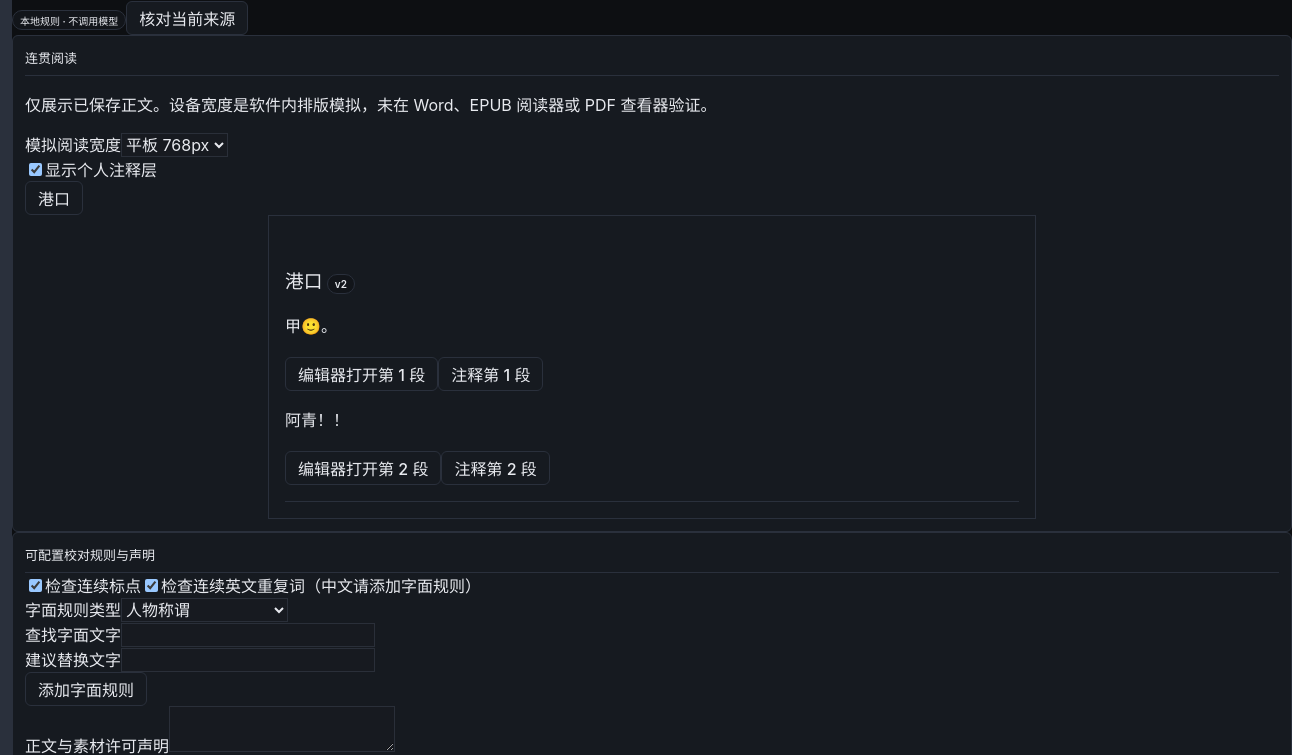
Test case: U11 real client request contracts › submits bounded literal rule configuration and status-only preflight with no editor content
The image size is (1292, 755).
Type "阿青" into the field labelled "查找字面文字" at (248,635), box [121,623,375,647]
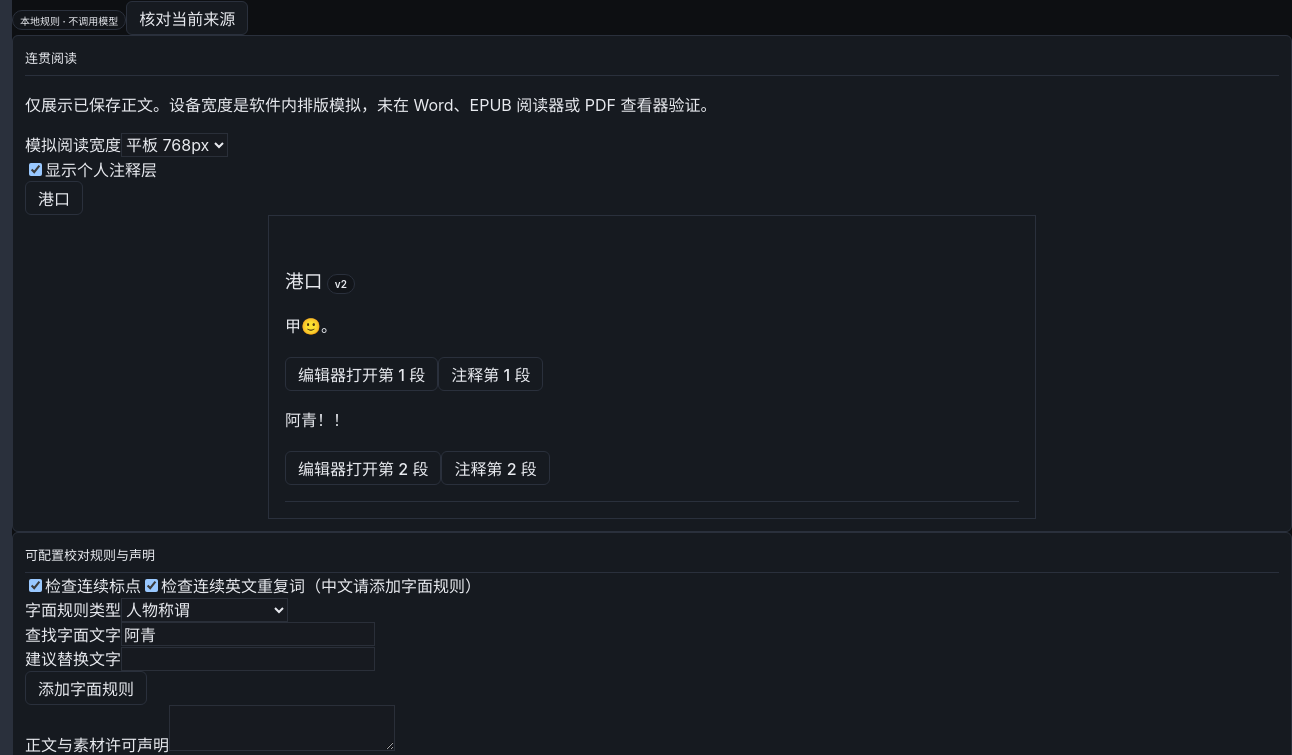
Type "船长" into the field labelled "建议替换文字" at (248,659), box [121,647,375,671]
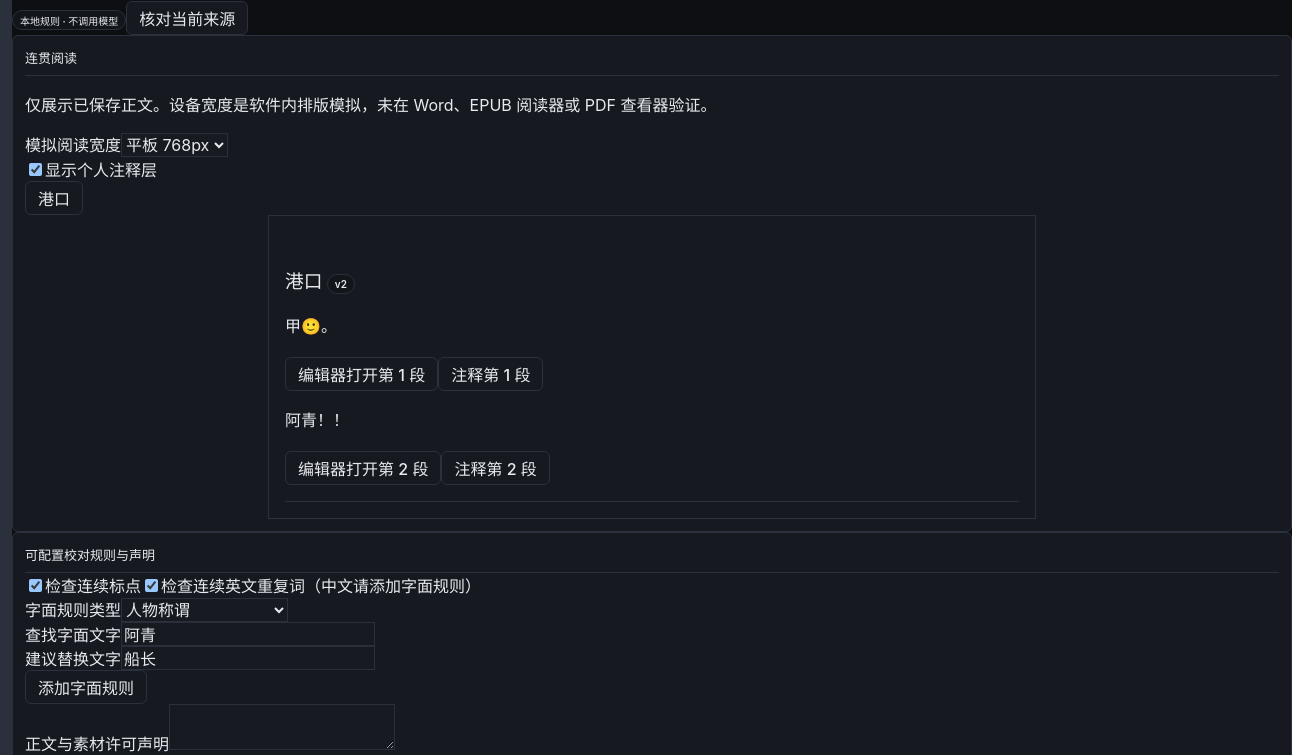
Click the button "添加字面规则" at (86,687), box [25,670,147,704]
(page scrolled)
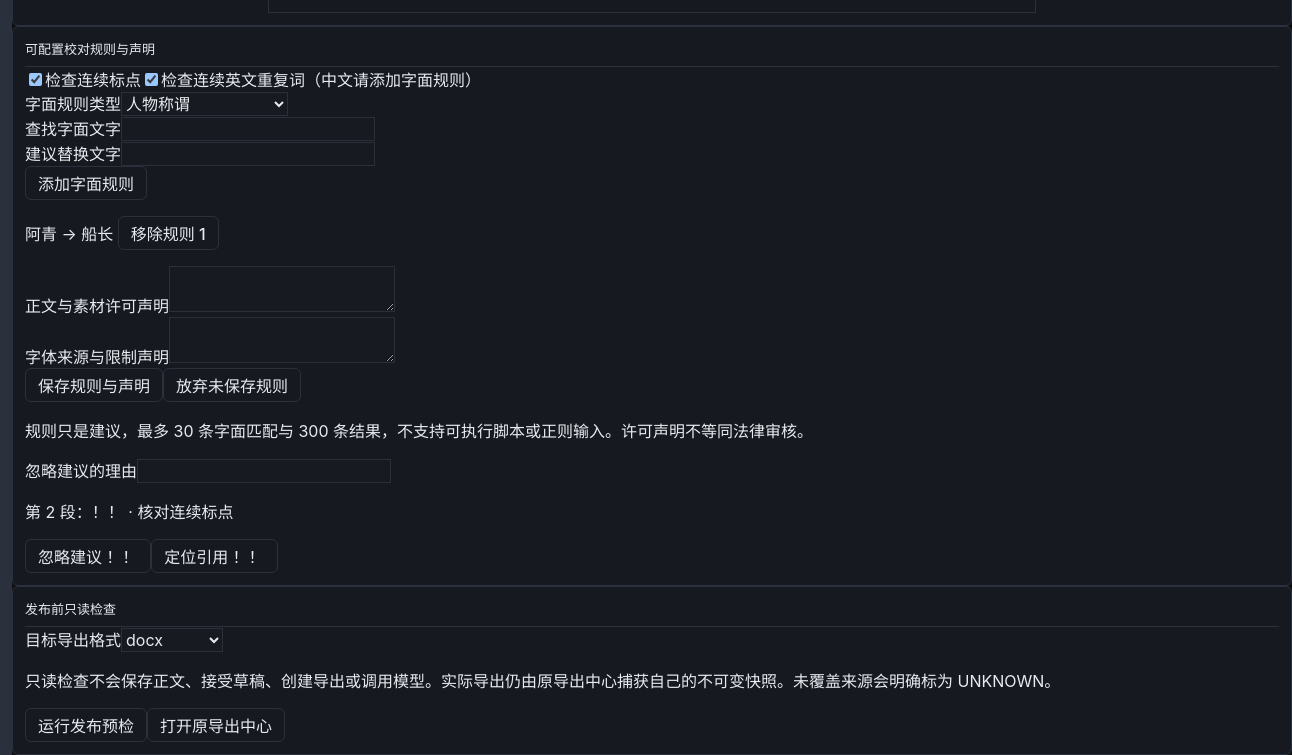
Click the button "保存规则与声明" at (94,385), box [25,368,163,402]
(page scrolled)
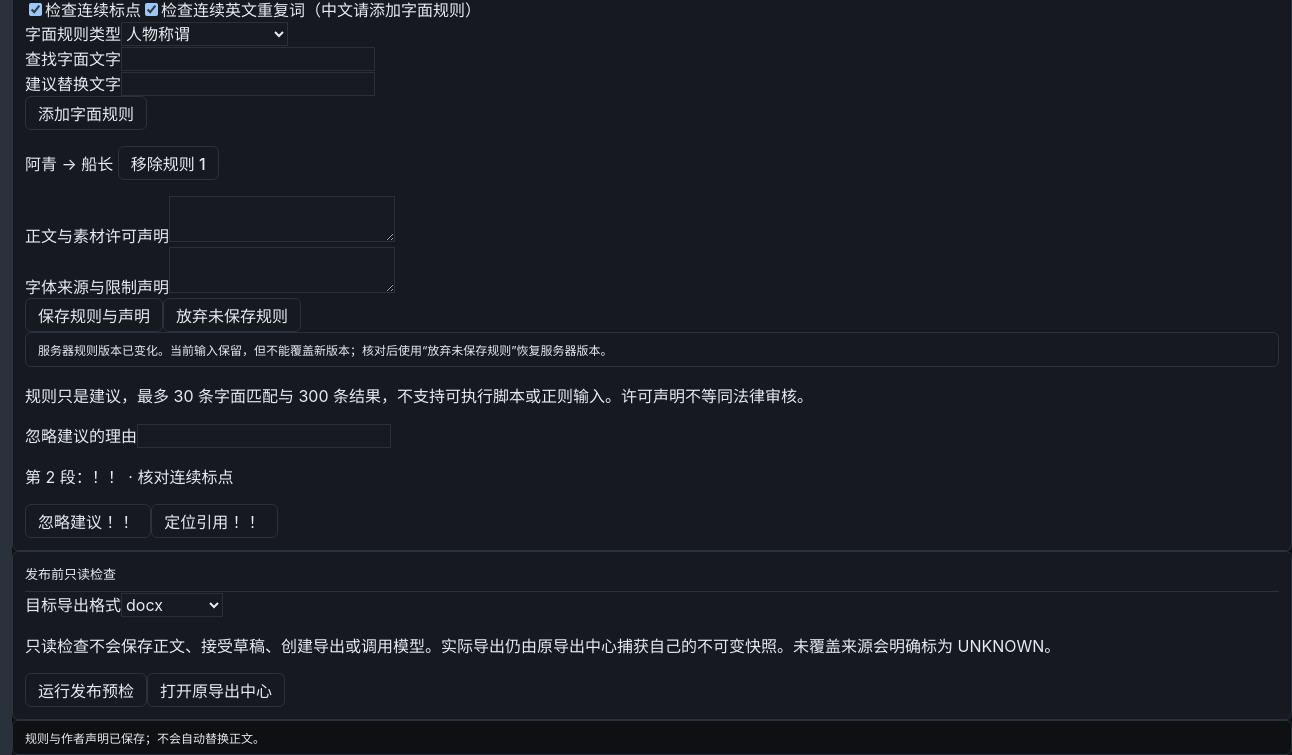
Check: the text "规则与作者声明已保存；不会自动替换正文。" is shown, box [12,720,1291,754]
Click the button "运行发布预检" at (86,690), box [25,673,147,707]
(page scrolled)
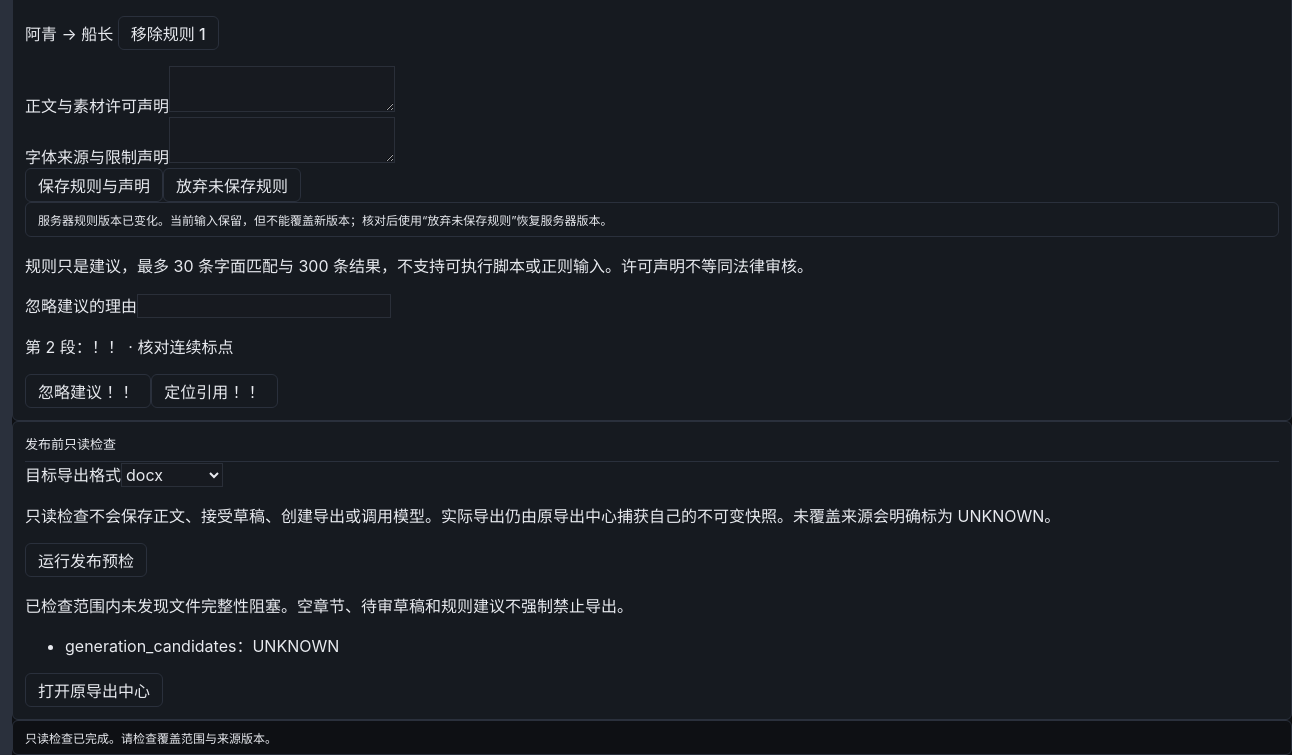
Check: the list item "generation_candidates：UNKNOWN" is shown, box [65,636,339,656]
